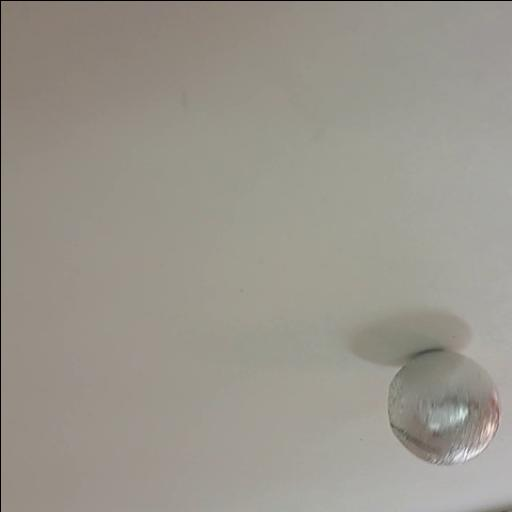alive: (384, 347, 504, 467)
